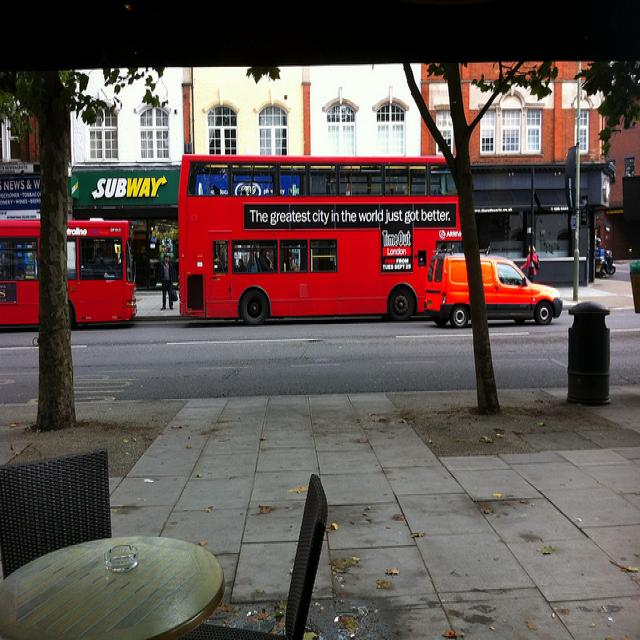chair: (183, 470, 327, 633), (0, 447, 114, 578)
dining table: (1, 534, 222, 632)
